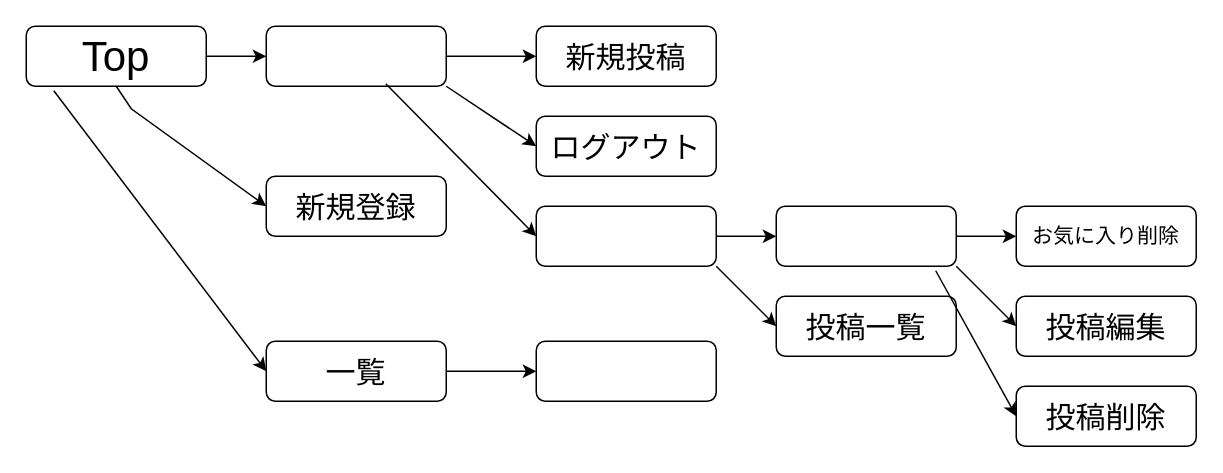
Some shapes in this 1223 by 473 pixel diagram are drawn without their labels. The box of each missing label's shape, as (x1, y1, x2, y2) in pixels:
お気に入り: (775, 205, 956, 266)
マイページ: (535, 205, 716, 266)
ログイン: (265, 25, 446, 86)
詳細: (535, 340, 716, 401)
